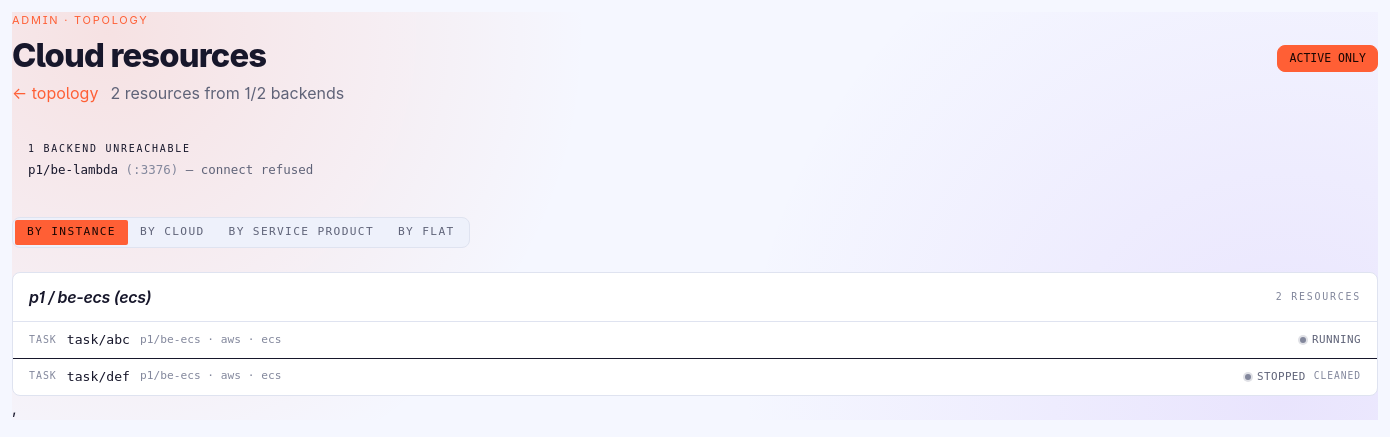
Scenario: TopologyResourcesPage › switches grouping when a chip is clicked
The image size is (1390, 437).
Expected: the text "p1 / be-ecs (ecs)" is shown, [29,285,151,309]
What coordinates should you click on to do the following:
click the button "by cloud"
I would click on:
 (172, 233)
Its box is [128,220,217,245].
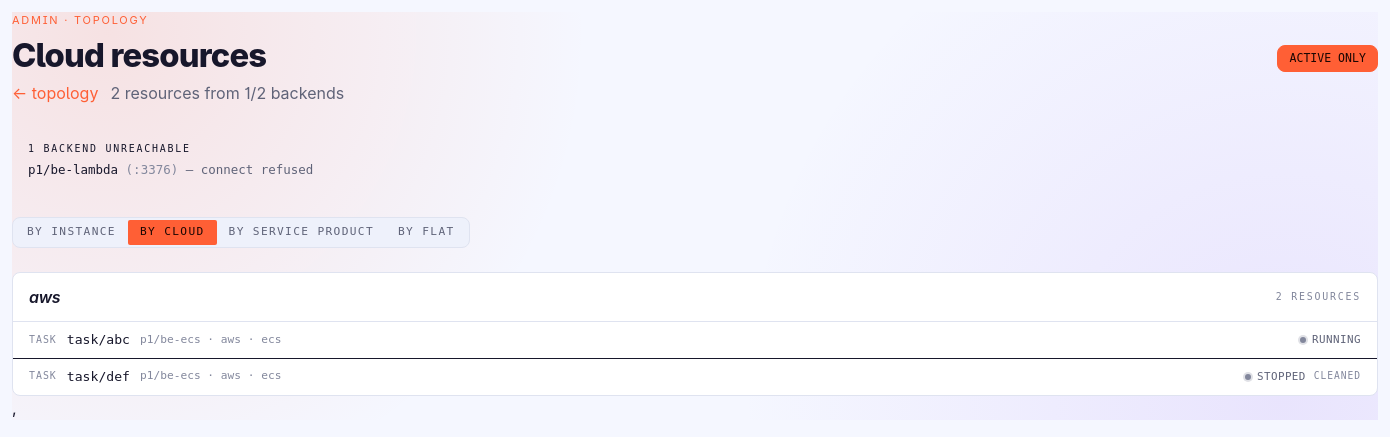
Expected: the text "p1 / be-ecs (ecs)" is gone
Expected: the text "aws" is shown, [29,285,60,309]
